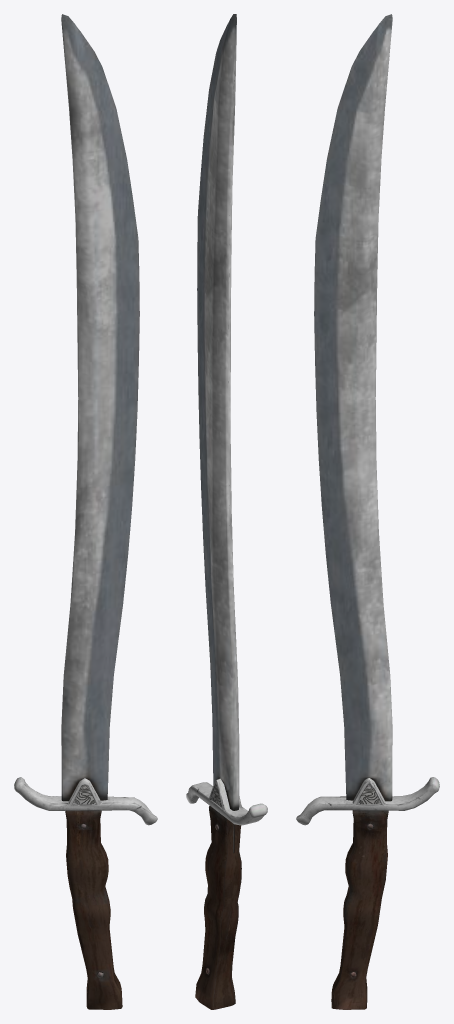
The model's file is wooden_handle_saber.glb.
The picture shows the model from 3 angles, left to right: view 1: azimuth 90°, elevation 25°; view 2: azimuth 210°, elevation 25°; view 3: azimuth 270°, elevation 25°; orthographic projection.
Visible parts, largest first — view 1: wooden_handle_saber; view 2: wooden_handle_saber; view 3: wooden_handle_saber.
Part boxes in pixels (x1,y1,x2,y2): wooden_handle_saber: [14, 14, 157, 1009]; wooden_handle_saber: [186, 14, 267, 1009]; wooden_handle_saber: [296, 14, 439, 1009].
Size of the model in its own units: 0.0256 by 0.9355 by 0.1231.
1 material, 1 textured.
